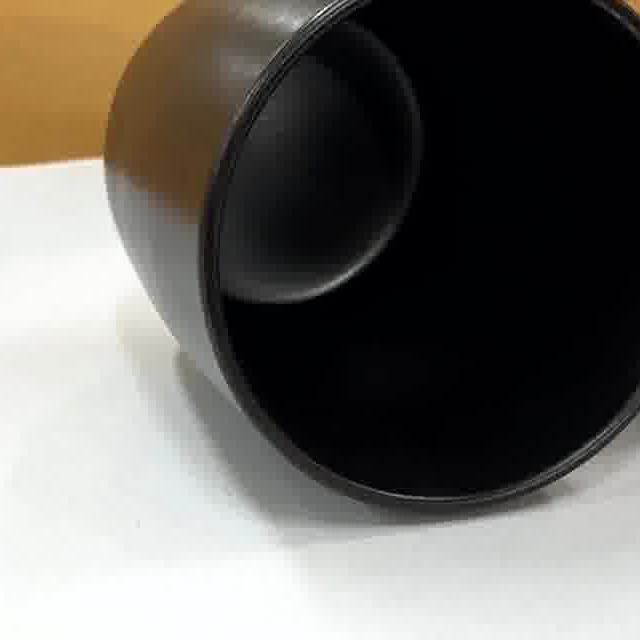cup: (179, 0, 640, 516)
